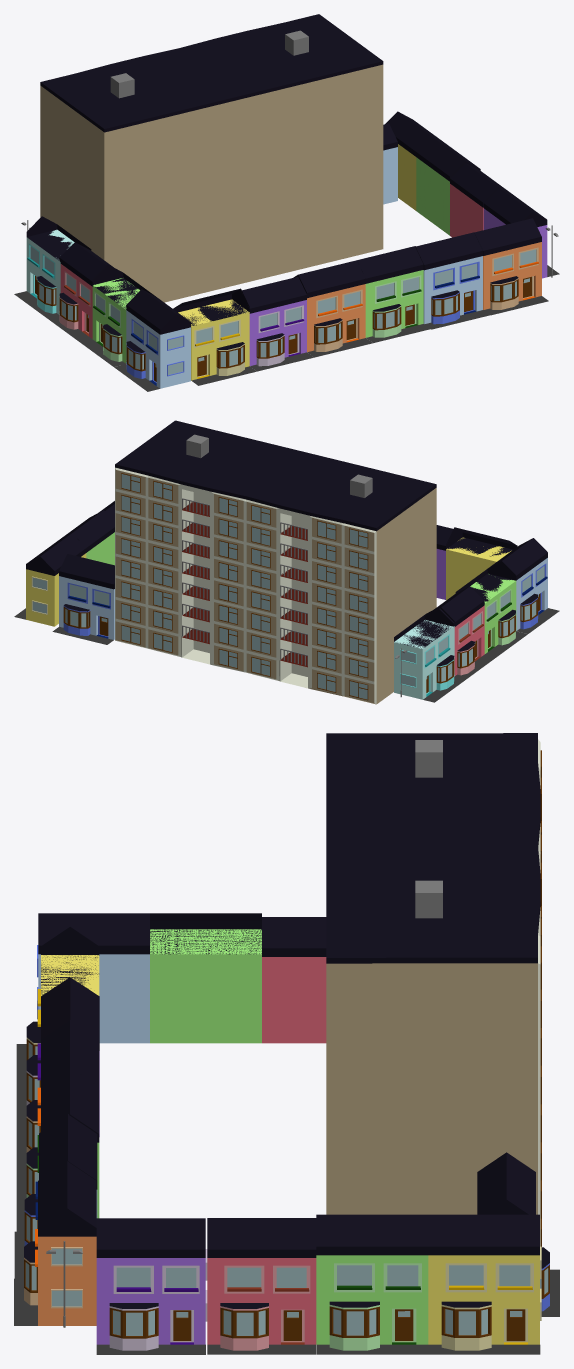
The model's file is 2x3block.glb.
3 renders of one model, top to bottom at view 1: azimuth 30°, elevation 25°; view 2: azimuth 150°, elevation 25°; view 3: azimuth 270°, elevation 25°, orthographic. The views are drawn at different scales.
Visible parts, largest first — view 1: Plane; view 2: Plane; view 3: Plane.
Boxes of the visible parts, x1,y1,x2,y2 form: Plane: (14, 14, 559, 391); Plane: (14, 420, 559, 704); Plane: (14, 733, 559, 1354).
Size of the model in its own units: 0.299 by 0.1359 by 0.1992.
